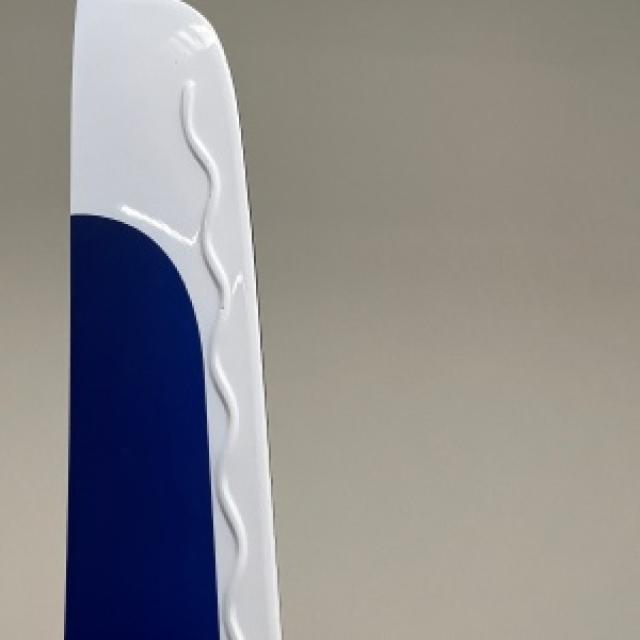healthy: (64, 0, 279, 638)
